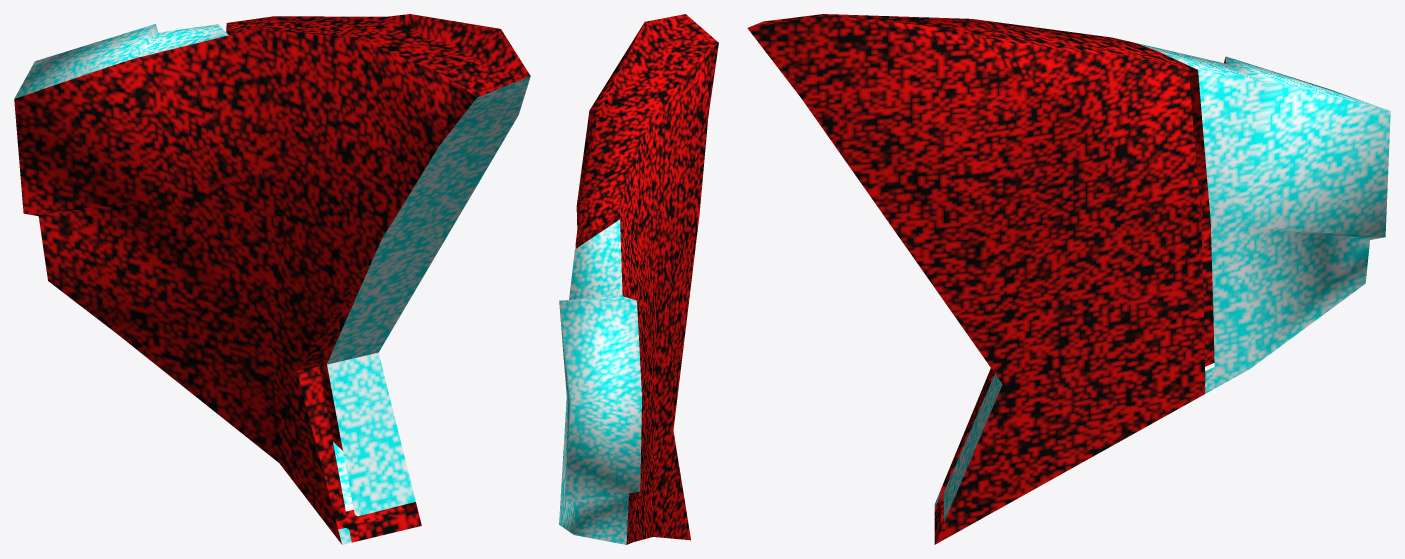
Rendered from SM_Debris_01_KMH.fbx.
The picture shows the model from 3 angles, left to right: view 1: azimuth 30°, elevation 25°; view 2: azimuth 150°, elevation 25°; view 3: azimuth 270°, elevation 25°; orthographic projection. The views are drawn at different scales.
Parts seen in each view (by area): view 1: SM_Debris_01_KMH; view 2: SM_Debris_01_KMH; view 3: SM_Debris_01_KMH.
Part boxes in pixels (bbox=[...]): SM_Debris_01_KMH: bbox=[14, 14, 530, 544]; SM_Debris_01_KMH: bbox=[559, 14, 718, 544]; SM_Debris_01_KMH: bbox=[747, 14, 1390, 544].
Size of the model in its own units: 3.1 by 6.33 by 6.79.
